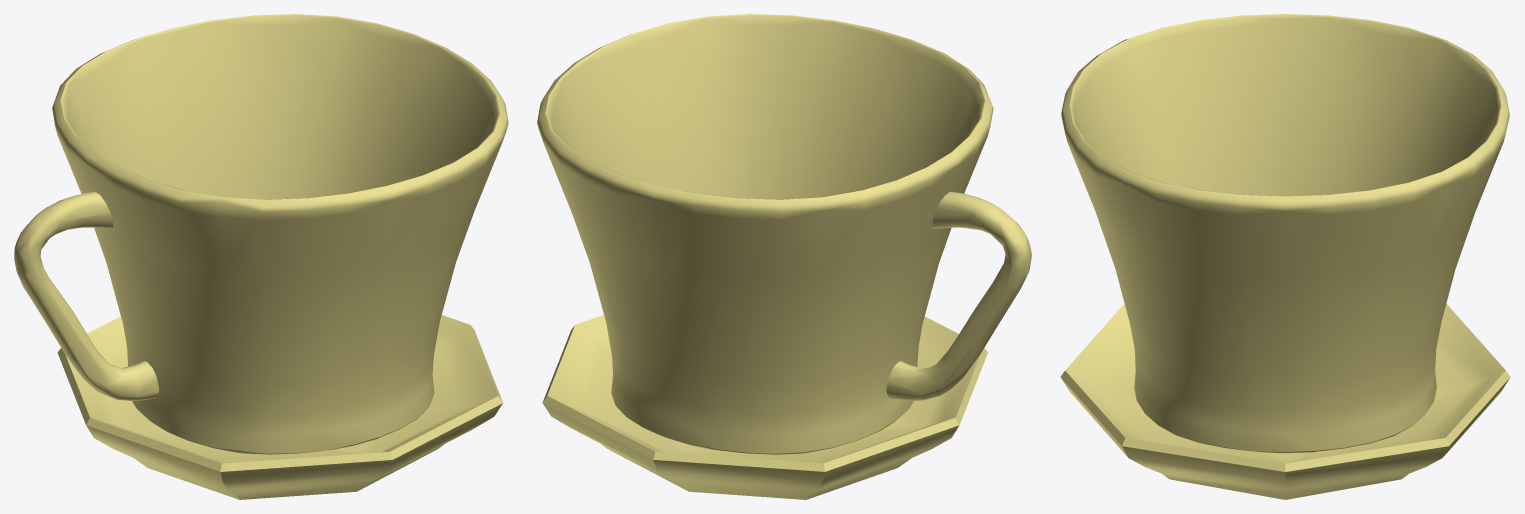
Rendered from tazzina_verde_LOD1.fbx.
3 views of the same model, side by side, from view 1: azimuth 30°, elevation 25°; view 2: azimuth 150°, elevation 25°; view 3: azimuth 270°, elevation 25° (orthographic).
Visible parts, largest first — view 1: Cube_002; view 2: Cube_002; view 3: Cube_002.
Part boxes in pixels (left/top/right/bottom): Cube_002: left=14, top=14, right=508, bottom=499; Cube_002: left=537, top=14, right=1031, bottom=499; Cube_002: left=1060, top=14, right=1510, bottom=499.
Size of the model in its own units: 30.02 by 20.71 by 25.48.
